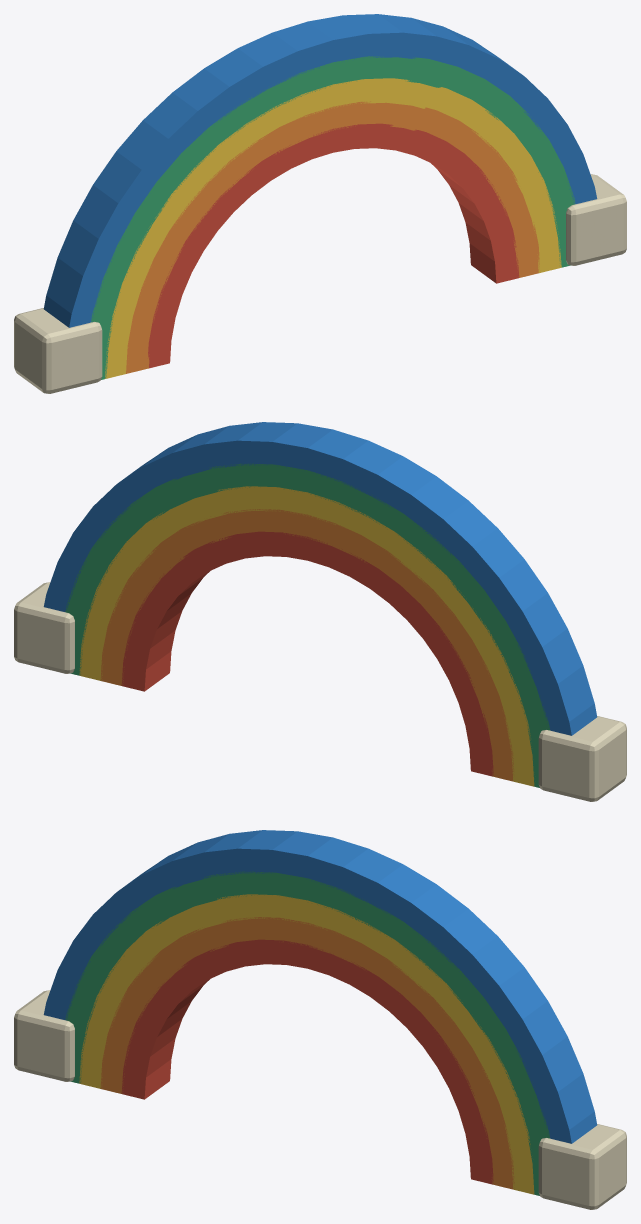
Rendered from playroom-rainbow.glb.
3 renders of one model, top to bottom at view 1: azimuth 30°, elevation 25°; view 2: azimuth 150°, elevation 25°; view 3: azimuth 330°, elevation 25°, orthographic.
Visible parts, largest first — view 1: Rainbow band 5, Rainbow band 3, Rainbow band 4, Rainbow band 1, Rainbow band 2, Padded arch base, Padded arch base.001; view 2: Rainbow band 5, Rainbow band 4, Rainbow band 3, Rainbow band 1, Rainbow band 2, Padded arch base, Padded arch base.001; view 3: Rainbow band 5, Rainbow band 4, Rainbow band 3, Rainbow band 1, Rainbow band 2, Padded arch base.001, Padded arch base.
Boxes of the visible parts, bbox=[...] form: Rainbow band 5: bbox=[43, 14, 597, 327]; Rainbow band 3: bbox=[105, 78, 561, 378]; Rainbow band 4: bbox=[90, 56, 575, 379]; Rainbow band 1: bbox=[148, 123, 519, 368]; Rainbow band 2: bbox=[126, 101, 539, 373]; Padded arch base: bbox=[14, 308, 102, 393]; Padded arch base.001: bbox=[566, 174, 626, 265]; Rainbow band 5: bbox=[43, 422, 597, 735]; Rainbow band 4: bbox=[65, 463, 550, 787]; Rainbow band 3: bbox=[79, 486, 534, 786]; Rainbow band 1: bbox=[121, 531, 493, 776]; Rainbow band 2: bbox=[100, 509, 513, 781]; Padded arch base: bbox=[538, 716, 626, 801]; Padded arch base.001: bbox=[14, 582, 74, 673]; Rainbow band 5: bbox=[43, 830, 597, 1143]; Rainbow band 4: bbox=[65, 871, 550, 1195]; Rainbow band 3: bbox=[79, 894, 534, 1194]; Rainbow band 1: bbox=[121, 939, 493, 1184]; Rainbow band 2: bbox=[100, 917, 514, 1189]; Padded arch base.001: bbox=[538, 1124, 626, 1209]; Padded arch base: bbox=[14, 990, 74, 1081].
Bounding box in the file's own units: 13.25 × 6.14 × 1.35.
